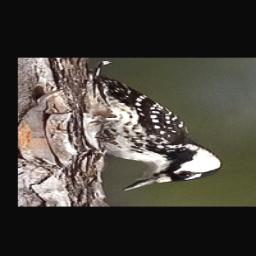Woodpecker: (81, 75, 228, 192)
